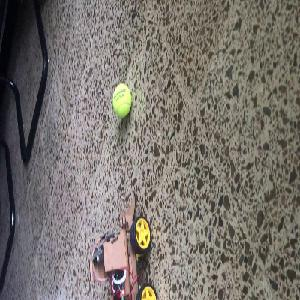Ball: (111, 83, 131, 118)
Robot: (90, 192, 157, 299)
